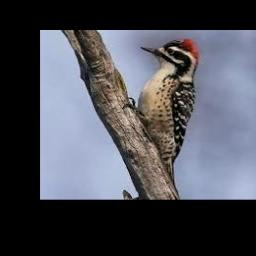Woodpecker: (123, 38, 201, 183)
